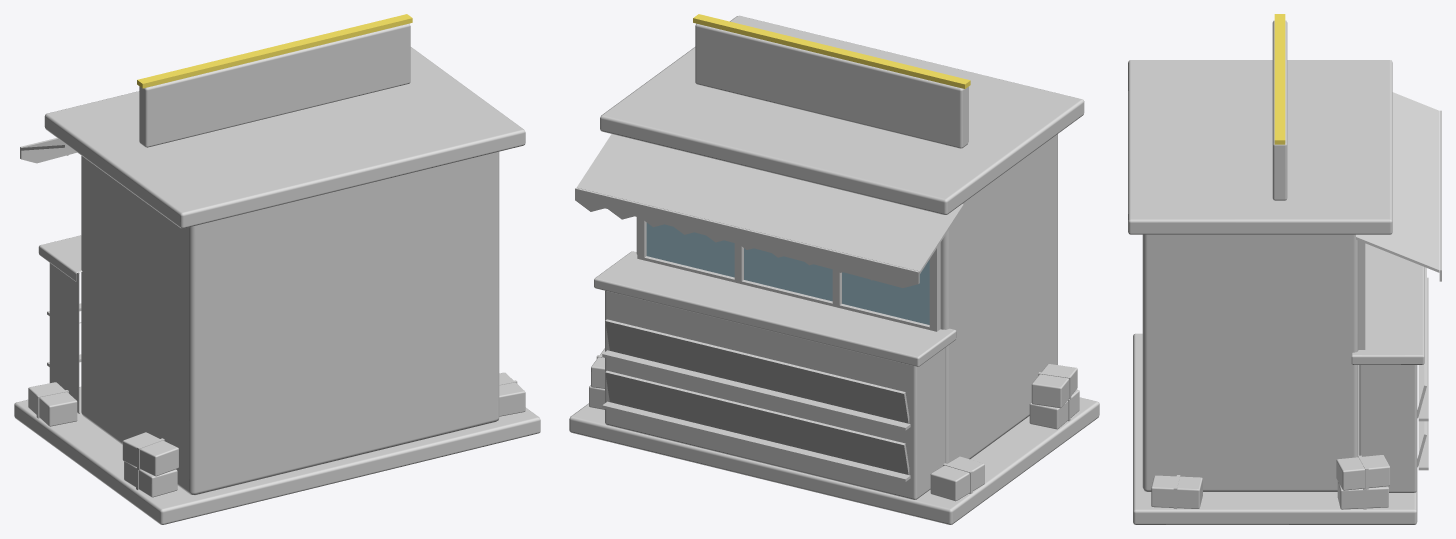
The model's file is NewsKiosk.glb.
3 renders of one model, left to right at view 1: azimuth 30°, elevation 25°; view 2: azimuth 150°, elevation 25°; view 3: azimuth 270°, elevation 25°, orthographic. The views are drawn at different scales.
Parts seen in each view (by area): view 1: Body, Glow; view 2: Body, Glass, Glow; view 3: Body, Glow.
Part boxes in pixels (left/top/right/bottom): Body: left=14, top=23, right=540, bottom=524; Glow: left=137, top=14, right=412, bottom=88; Body: left=569, top=15, right=1099, bottom=524; Glass: left=646, top=223, right=929, bottom=324; Glow: left=693, top=14, right=970, bottom=88; Body: left=1128, top=20, right=1441, bottom=524; Glow: left=1274, top=14, right=1285, bottom=144.
Size of the model in its own units: 8.63 by 8.08 by 6.4.
